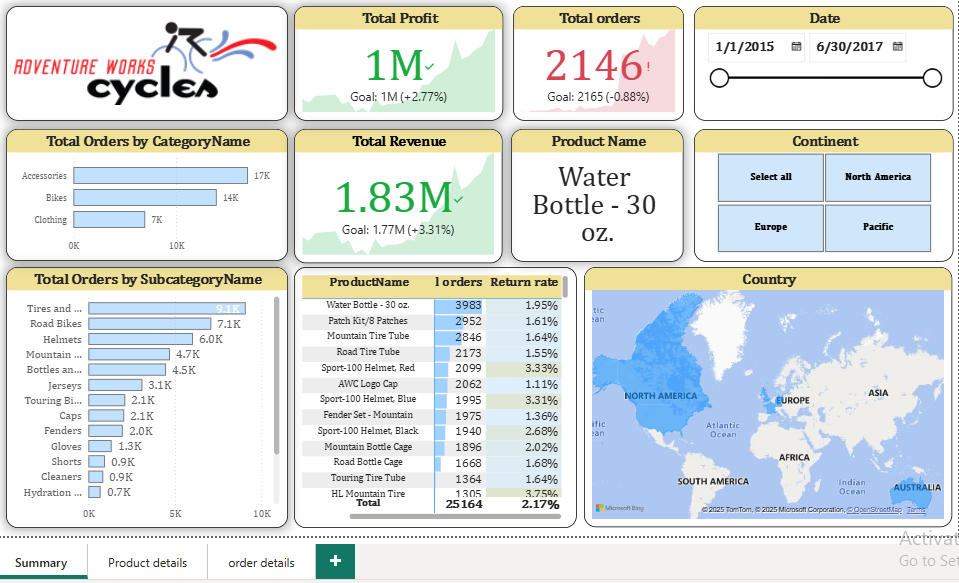

Layout of this report page (visuals, bound fields, positions):
{"tool":"powerbi","page":{"name":"Summary","canvas":[1280,720],"ordinal":0},"visuals":[{"type":"image","box":[10.1,13,375.8,152.6],"z":0},{"type":"barChart","title":"Total Orders by SubcategoryName","fields":{"Y":["AW_sales_15-17.total orders"],"Category":["AW_Product_Subcategories.SubcategoryName"]},"box":[10.1,361.4,375.8,348.5],"z":1000},{"type":"barChart","title":"Total Orders by CategoryName","fields":{"Category":["AW_product_categories.CategoryName","AW_Product_Subcategories.SubcategoryName","AW_products.ProductName"],"Y":["AW_sales_15-17.total orders"]},"box":[10.1,177.1,375.8,175.7],"z":2000},{"type":"card","title":"Product Name","fields":{"Values":["Min(AW_products.ProductName)"]},"box":[684,177.1,230.4,177.1],"z":3000},{"type":"slicer","title":"Date","fields":{"Values":["AW_calender.Date"]},"box":[927.4,0,345.6,165.6],"z":4000},{"type":"filledMap","fields":{"Category":["AW_Territories.Country"]},"box":[783.4,361.4,491,348.5],"z":5000},{"type":"slicer","title":"Continent","fields":{"Values":["AW_Territories.Continent"]},"box":[927.4,177.1,345.6,177.1],"z":6000},{"type":"pivotTable","fields":{"Values":["AW_sales_15-17.total orders","AW_Returns.Return rate"],"Rows":["AW_products.ProductName"]},"box":[394.6,361.4,374.4,348.5],"z":7000},{"type":"kpi","title":"Total Revenue ","fields":{"Indicator":["AW_sales_15-17.Total revenue"],"Goal":["AW_sales_15-17.previous month revenue"],"TrendLine":["AW_calender.Start of Month"]},"box":[394.6,177.1,277.9,178.6],"z":8000},{"type":"kpi","title":"Total orders","fields":{"TrendLine":["AW_calender.Start of Month"],"Goal":["AW_sales_15-17.previous month orders"],"Indicator":["AW_sales_15-17.total orders"]},"box":[686.9,13,227.5,152.6],"z":9000},{"type":"kpi","title":"Total Profit","fields":{"Indicator":["AW_sales_15-17.total profit"],"Goal":["AW_sales_15-17.Previous Month Profit"],"TrendLine":["AW_calender.Start of Month"]},"box":[394.6,13,279.4,152.6],"z":10000}]}

Visuals, with their boxes in screenshot pixels (x1, y1, x2, y2):
image: {"x1": 7, "y1": 5, "x2": 285, "y2": 117}
"Total Orders by SubcategoryName" barChart: {"x1": 7, "y1": 262, "x2": 285, "y2": 520}
"Total Orders by CategoryName" barChart: {"x1": 7, "y1": 126, "x2": 285, "y2": 256}
"Product Name" card: {"x1": 505, "y1": 126, "x2": 676, "y2": 257}
"Date" slicer: {"x1": 685, "y1": 0, "x2": 941, "y2": 117}
filledMap - AW_Territories.Country: {"x1": 579, "y1": 262, "x2": 942, "y2": 520}
"Continent" slicer: {"x1": 685, "y1": 126, "x2": 941, "y2": 257}
pivotTable - AW_sales_15-17.total orders x AW_Returns.Return rate: {"x1": 292, "y1": 262, "x2": 568, "y2": 520}
"Total Revenue " kpi: {"x1": 292, "y1": 126, "x2": 497, "y2": 258}
"Total orders" kpi: {"x1": 508, "y1": 5, "x2": 676, "y2": 117}
"Total Profit" kpi: {"x1": 292, "y1": 5, "x2": 498, "y2": 117}
